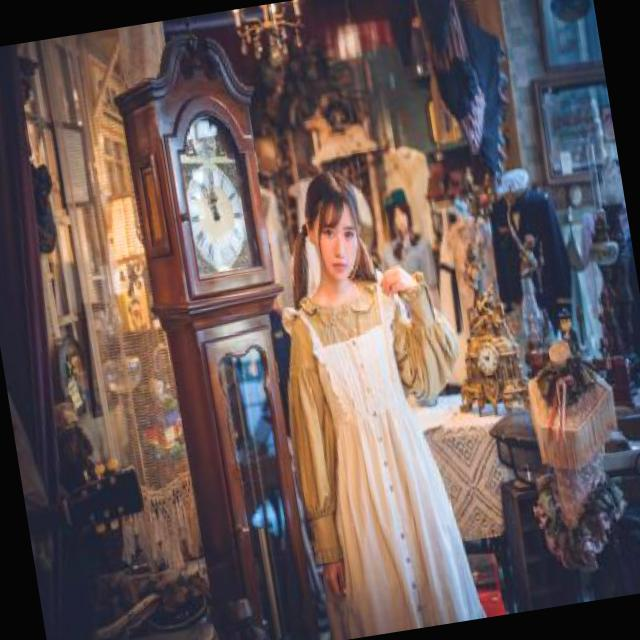Person: (235, 145, 510, 640)
